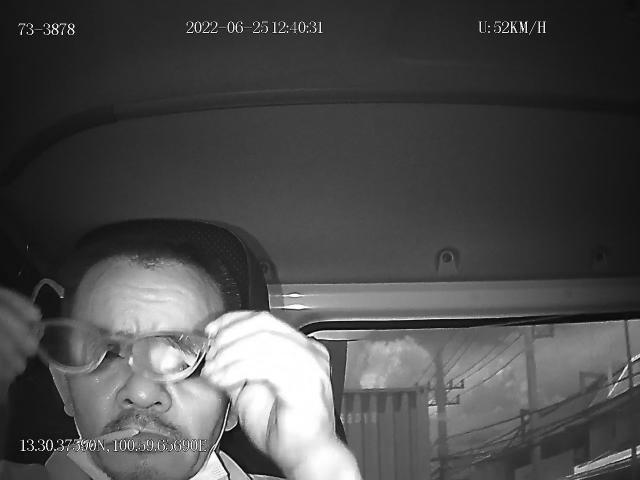Smoking: (76, 429, 138, 451)
